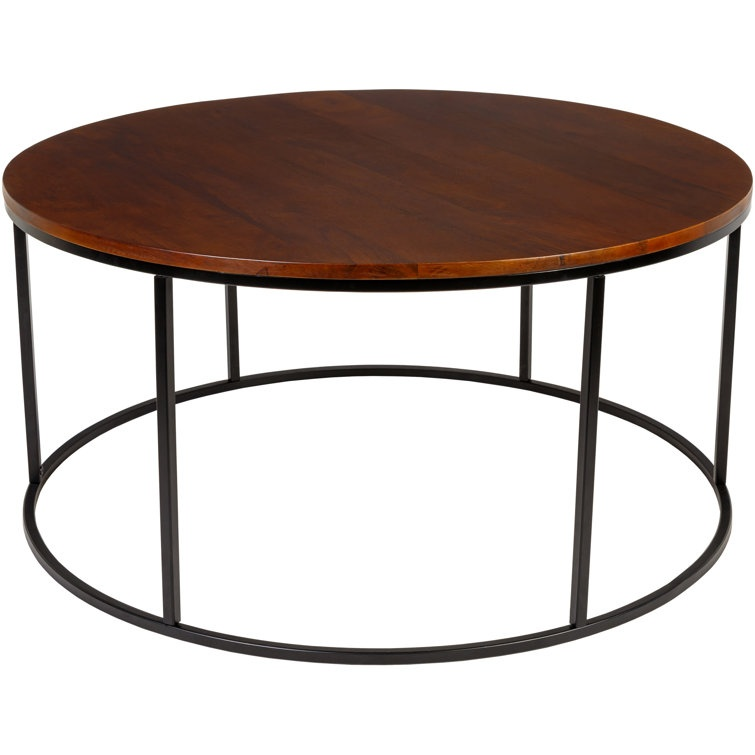obstacle: (3, 90, 752, 663)
